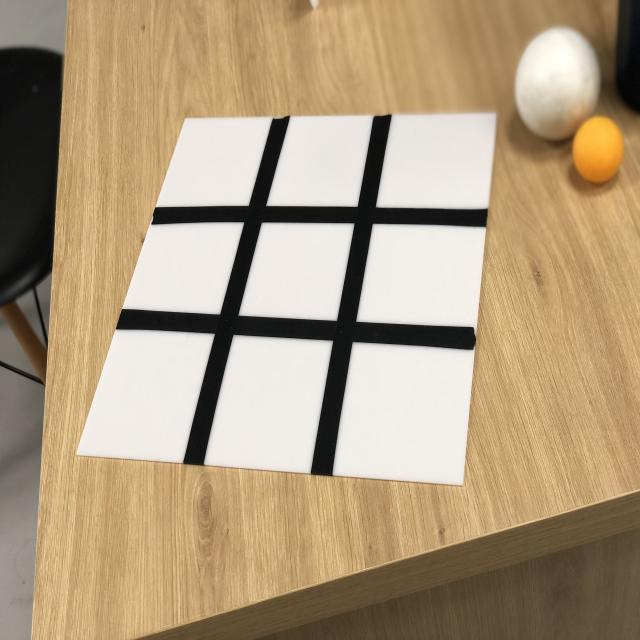null: (76, 308, 215, 481), (332, 334, 475, 492), (204, 322, 334, 484), (239, 206, 357, 331), (356, 222, 487, 329), (265, 97, 375, 223), (375, 103, 496, 214), (122, 221, 245, 314), (154, 116, 273, 206)
table: (74, 76, 497, 486)
